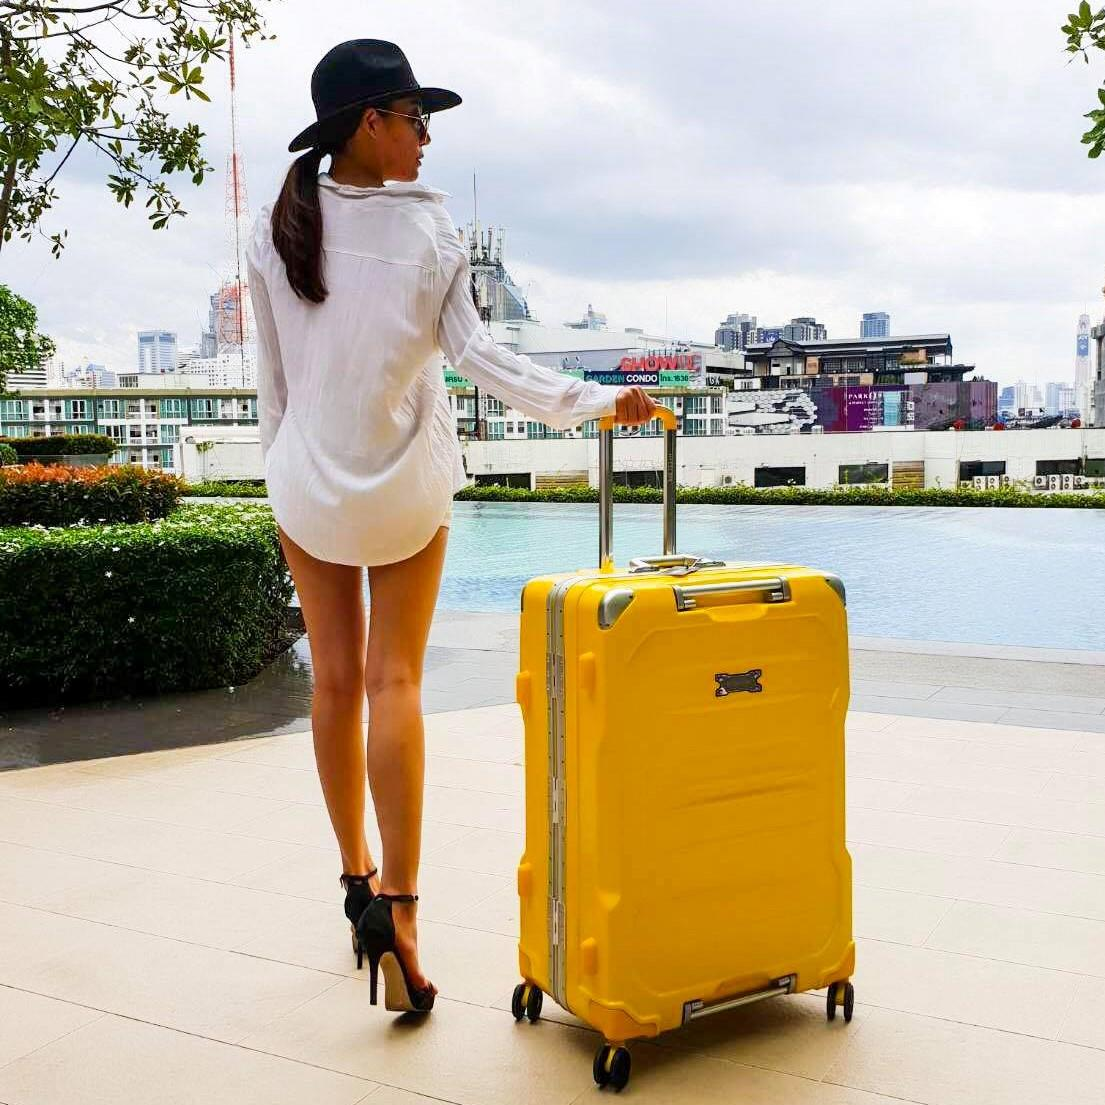luggage: (516, 445, 862, 1060)
